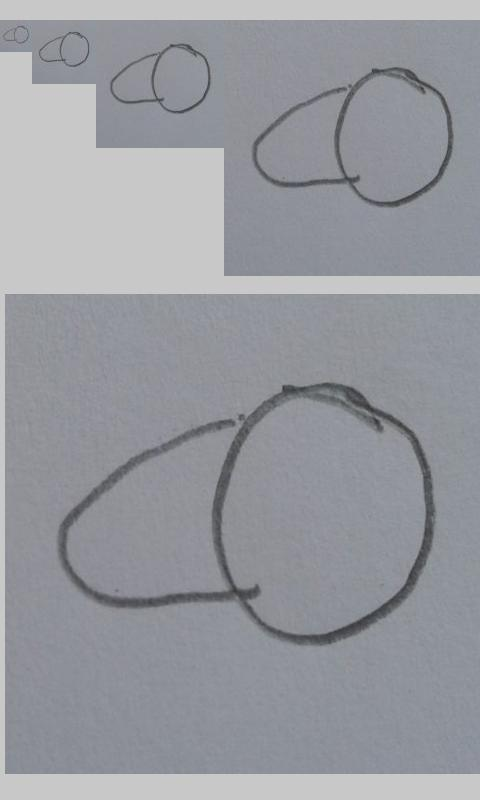switch: (56, 382, 437, 647), (252, 66, 455, 207), (110, 43, 212, 114), (38, 31, 90, 67), (2, 25, 29, 44)
